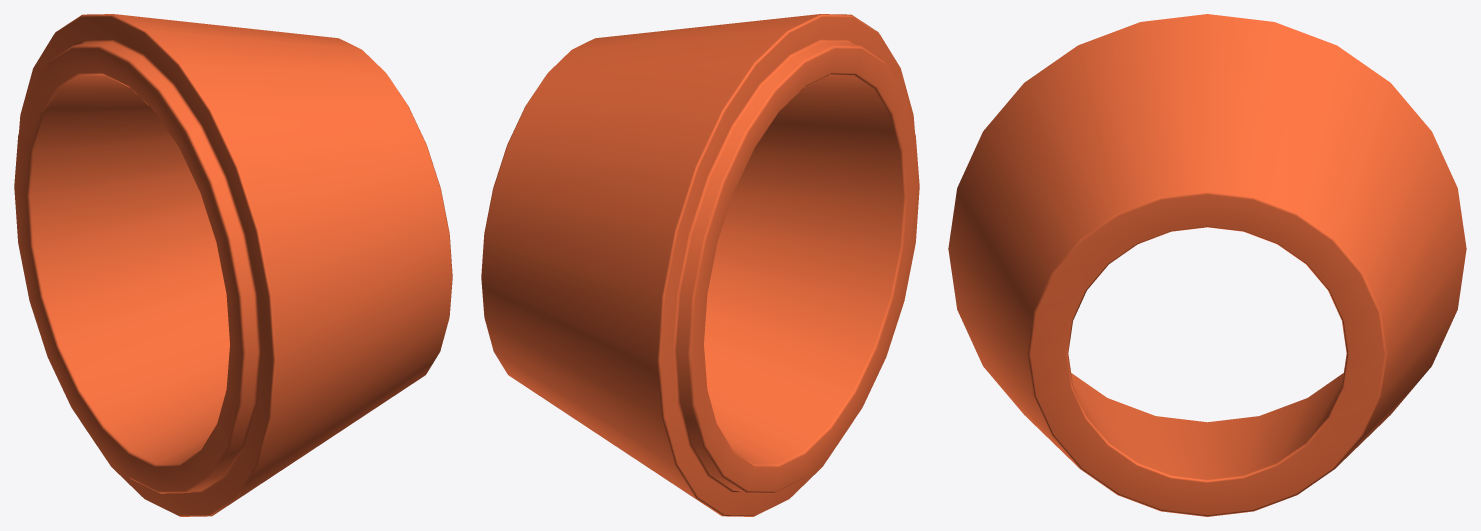
The model's file is Public_15_Hairdryer_Nozzle_1.glb.
3 views of the same model, side by side, from view 1: azimuth 30°, elevation 25°; view 2: azimuth 150°, elevation 25°; view 3: azimuth 270°, elevation 25° (orthographic).
Parts seen in each view (by area): view 1: Public_15_Hairdryer_Nozzle_1; view 2: Public_15_Hairdryer_Nozzle_1; view 3: Public_15_Hairdryer_Nozzle_1.
Part boxes in pixels (x1,y1,x2,y2): Public_15_Hairdryer_Nozzle_1: (14,14,452,516); Public_15_Hairdryer_Nozzle_1: (481,14,919,516); Public_15_Hairdryer_Nozzle_1: (948,14,1466,516).
Size of the model in its own units: 0.4485 by 0.8536 by 0.8536.
1 material, 1 textured.
